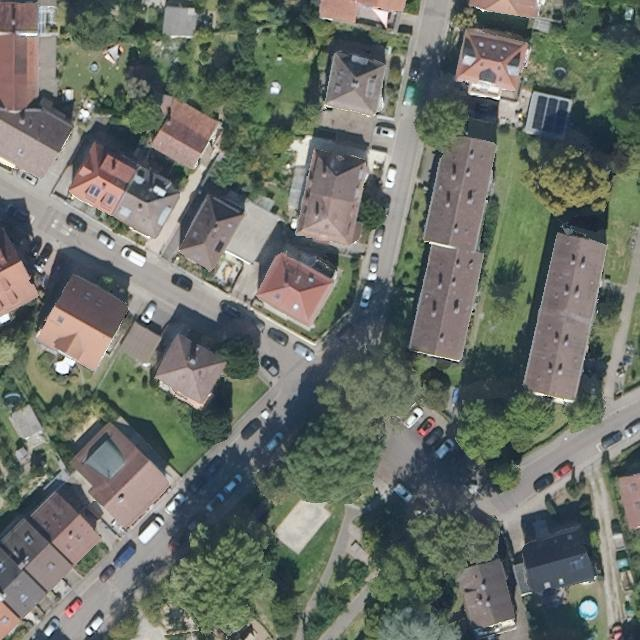PV: (529, 93, 572, 139)
